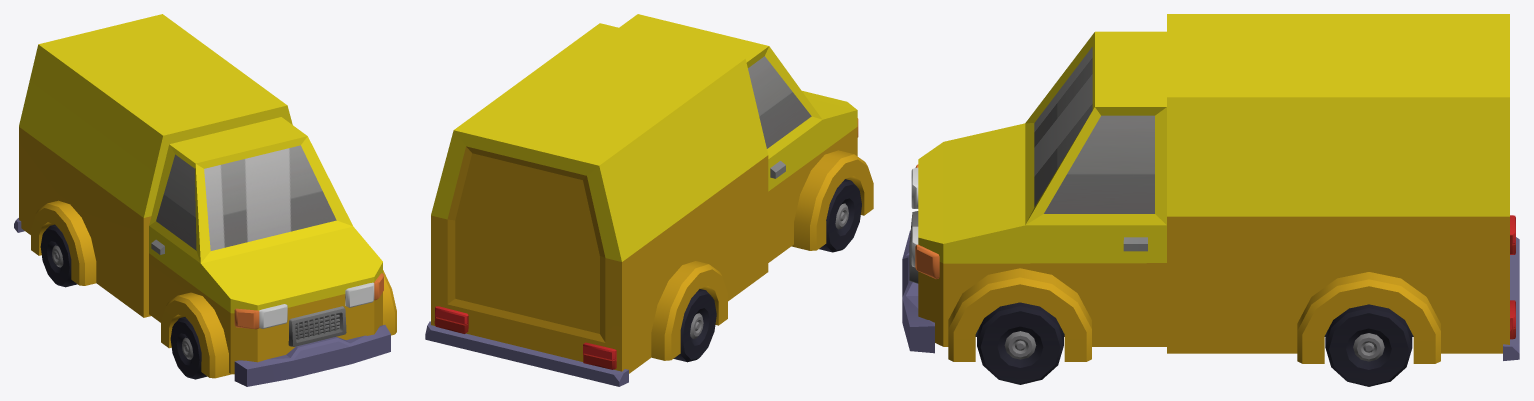
Rendered from Van_6.fbx.
The picture shows the model from 3 angles, left to right: view 1: azimuth 30°, elevation 25°; view 2: azimuth 150°, elevation 25°; view 3: azimuth 270°, elevation 25°; orthographic projection. The views are drawn at different scales.
Parts seen in each view (by area): view 1: Van_6, wheel_FR, wheel_BR; view 2: Van_6, wheel_BR, wheel_FR; view 3: Van_6, wheel_BL, wheel_FL.
Part boxes in pixels (bbox=[...]): Van_6: bbox=[14, 14, 396, 386]; wheel_FR: bbox=[170, 317, 207, 379]; wheel_BR: bbox=[40, 224, 77, 287]; Van_6: bbox=[425, 14, 873, 386]; wheel_BR: bbox=[673, 289, 716, 362]; wheel_FR: bbox=[819, 179, 861, 252]; Van_6: bbox=[902, 14, 1519, 363]; wheel_BL: bbox=[1325, 304, 1412, 386]; wheel_FL: bbox=[977, 302, 1063, 384].
Size of the model in its own units: 123 by 119 by 248.
